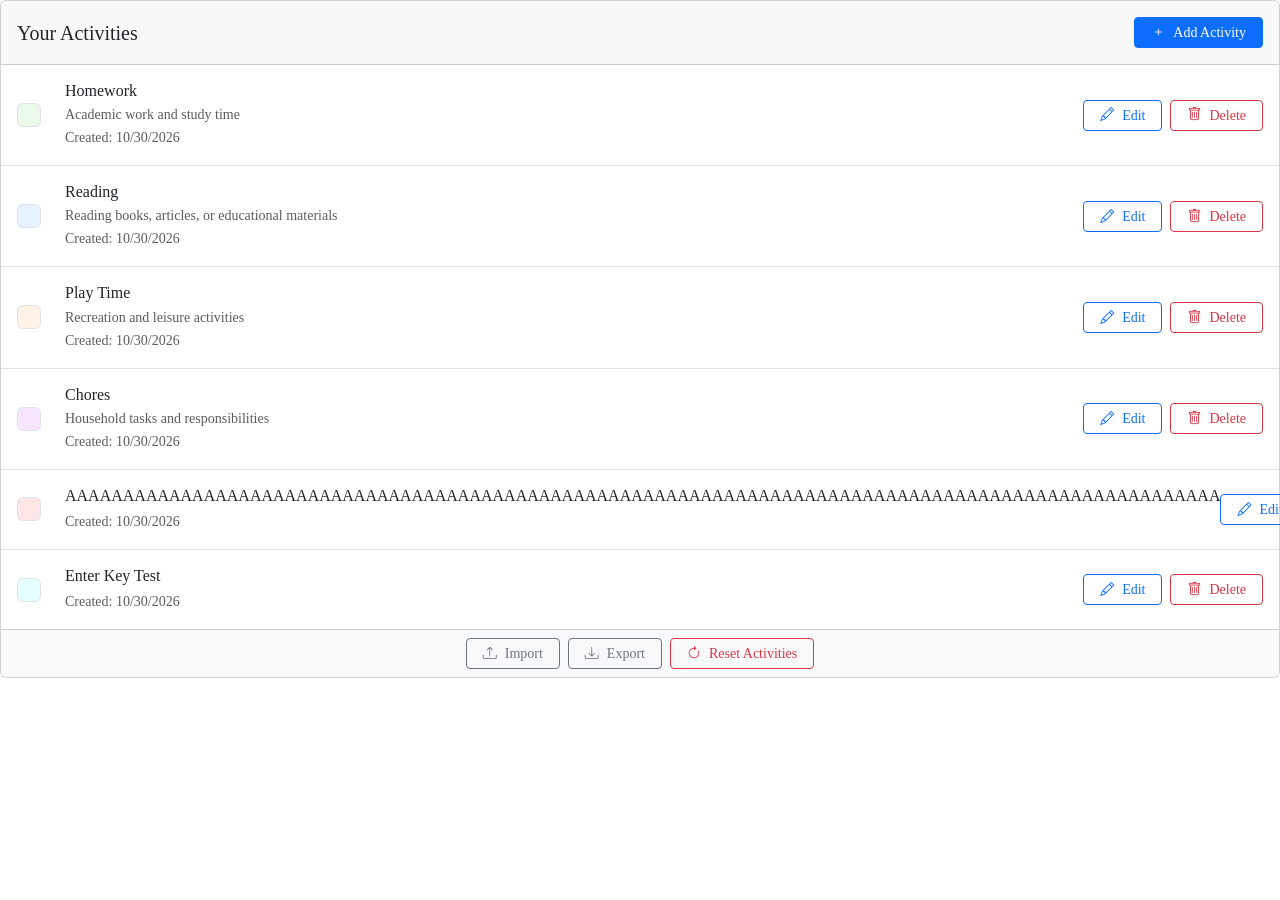
Scenario: ActivityCrud › exports activities as JSON
Click the button "Export" at (615, 654), box top-left (568, 638), bottom-right (662, 669)
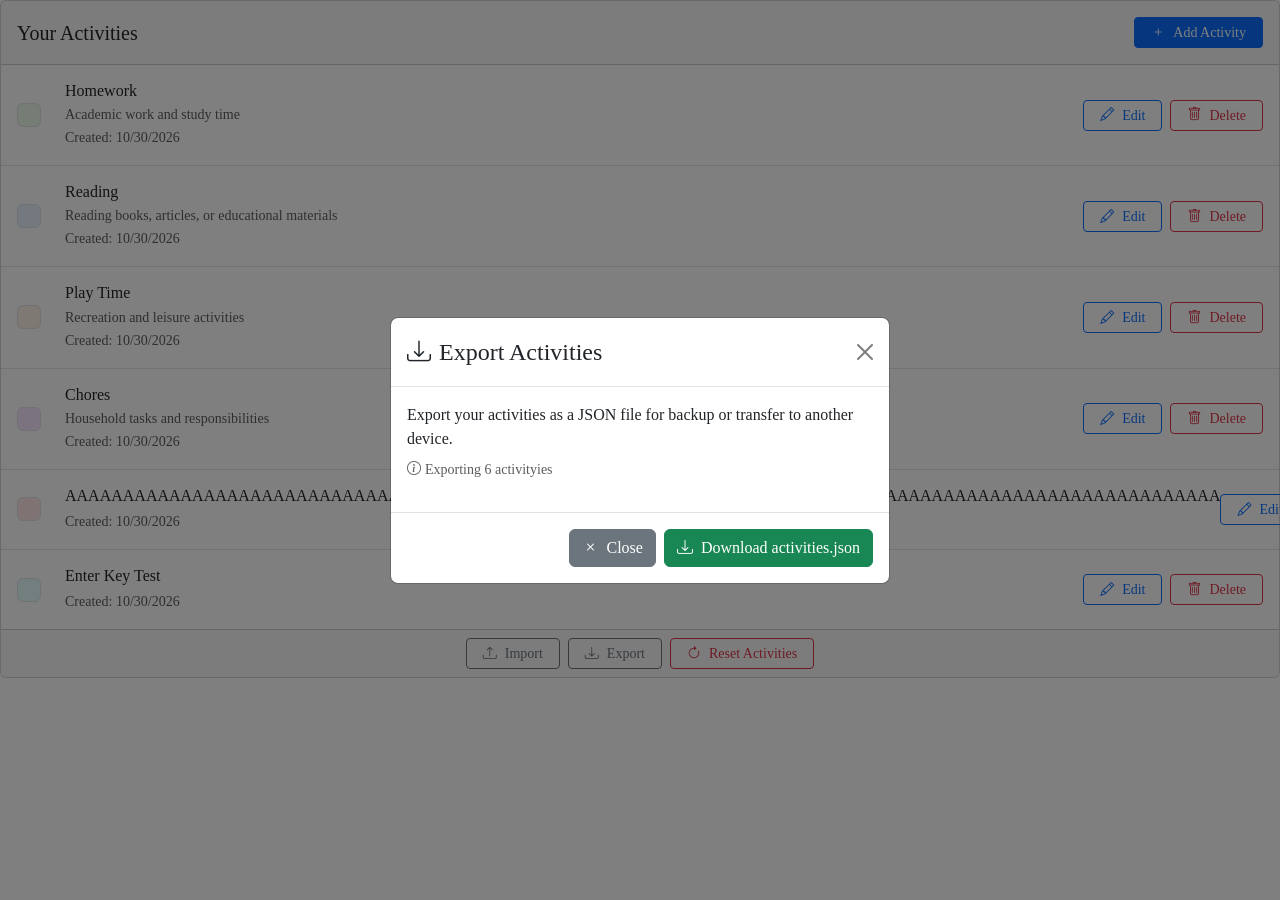
Check: the link "Download activities.json" is shown, box top-left (664, 528), bottom-right (873, 566)
